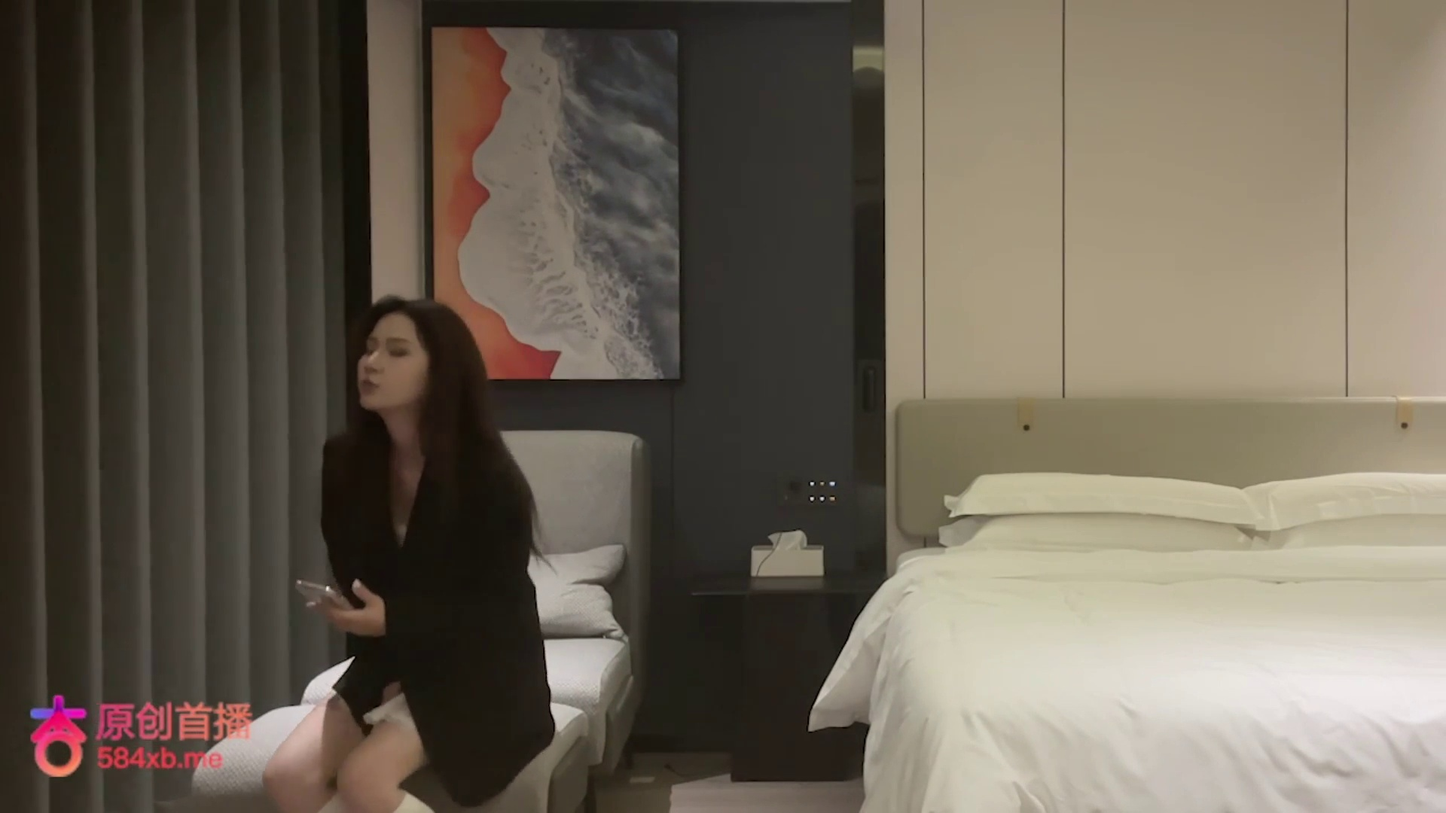squat: (264, 294, 557, 810)
